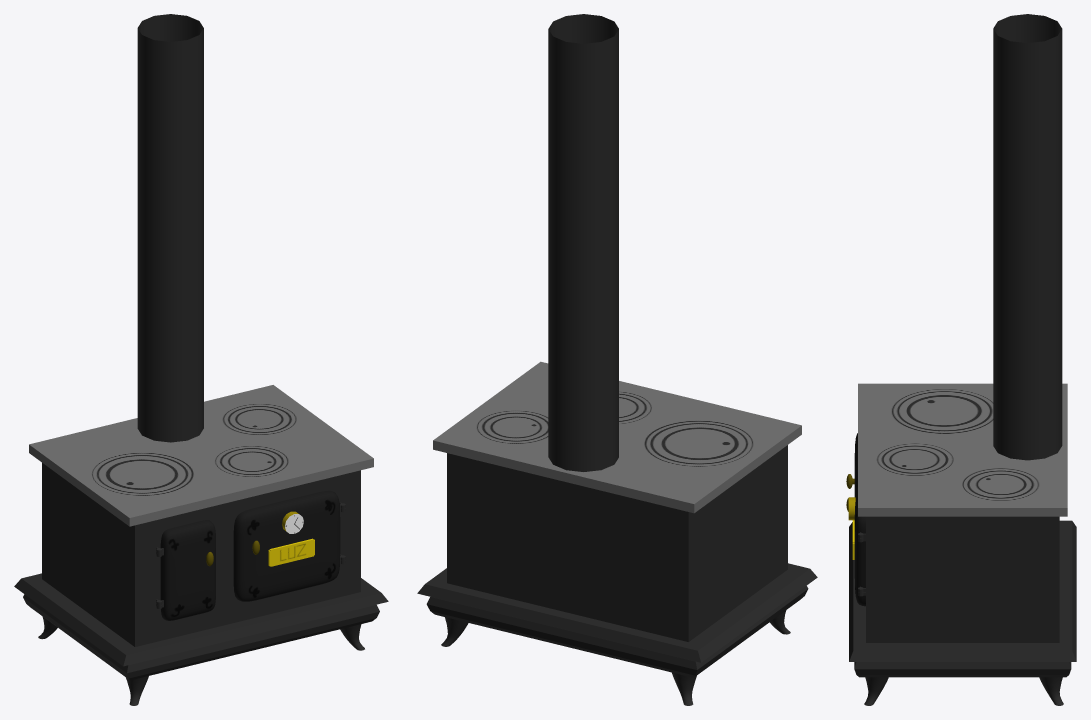
The model's file is Fogao_lenha.fbx.
The picture shows the model from 3 angles, left to right: view 1: azimuth 30°, elevation 25°; view 2: azimuth 150°, elevation 25°; view 3: azimuth 270°, elevation 25°; orthographic projection. The views are drawn at different scales.
Parts seen in each view (by area): view 1: Cylinder.002; view 2: Cylinder.002; view 3: Cylinder.002.
Boxes of the visible parts, x1,y1,x2,y2 form: Cylinder.002: [14, 14, 388, 705]; Cylinder.002: [417, 14, 817, 705]; Cylinder.002: [846, 14, 1076, 705].
Size of the model in its own units: 2.05 by 4.38 by 1.48.
1 material, 1 textured.
